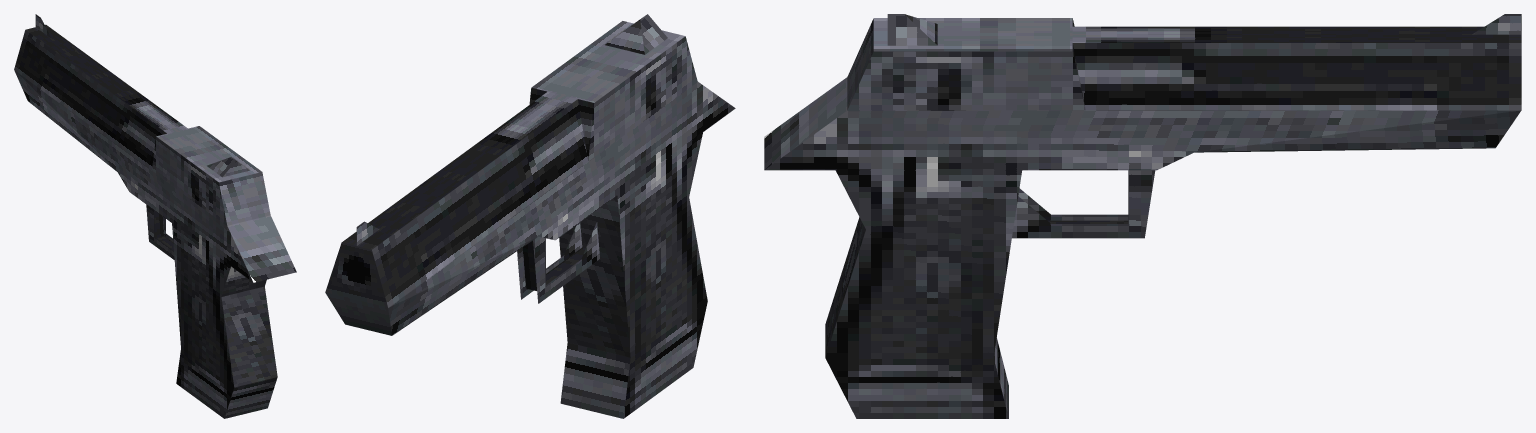
The model's file is recovered_gun_desert_eagle.glb.
The picture shows the model from 3 angles, left to right: view 1: azimuth 30°, elevation 25°; view 2: azimuth 150°, elevation 25°; view 3: azimuth 270°, elevation 25°; orthographic projection. The views are drawn at different scales.
Visible parts, largest first — view 1: Gun_d9f03057e97a; view 2: Gun_d9f03057e97a; view 3: Gun_d9f03057e97a.
Part boxes in pixels (left/top/right/bottom): Gun_d9f03057e97a: left=14, top=14, right=296, bottom=418; Gun_d9f03057e97a: left=325, top=14, right=735, bottom=418; Gun_d9f03057e97a: left=764, top=14, right=1521, bottom=418.
Bounding box in the file's own units: 0.0348 × 0.188 × 0.3323.
1 material, 1 textured.
